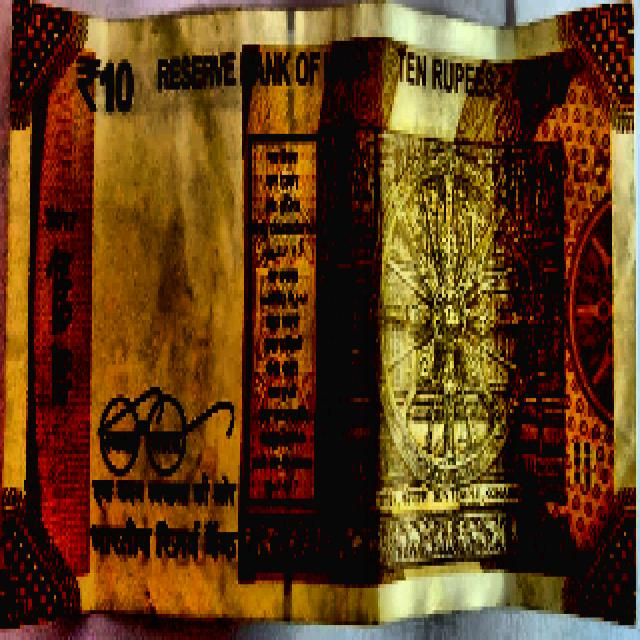-10-: (25, 4, 640, 549)
